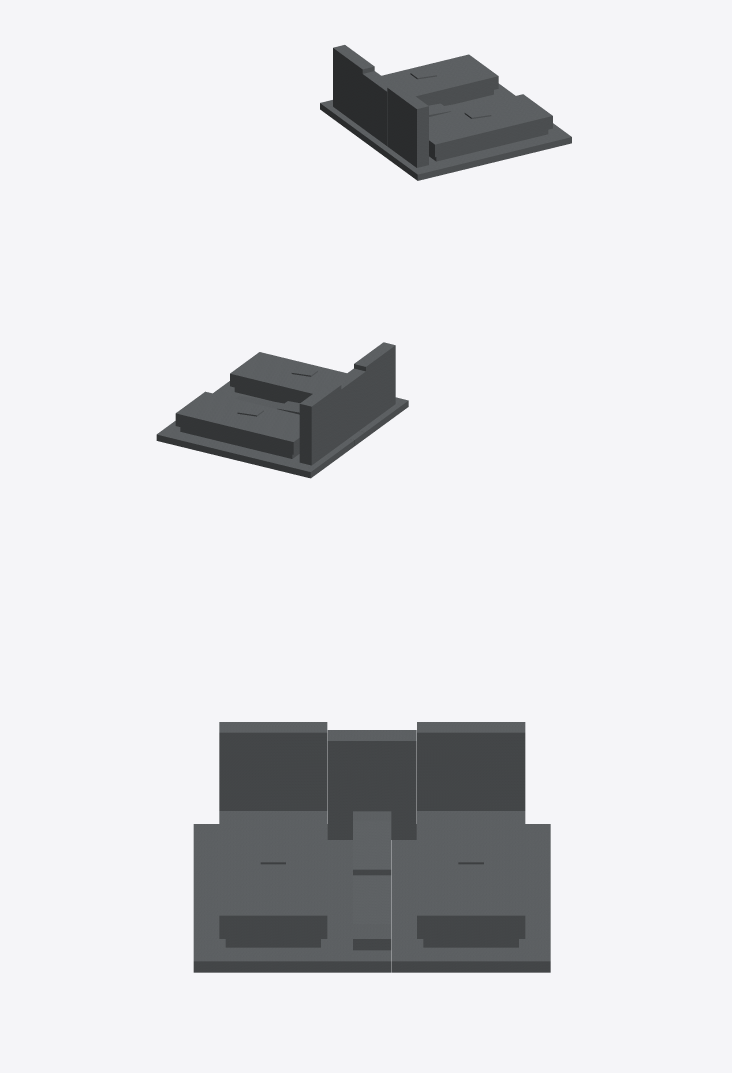
The model's file is product3.glb.
The picture shows the model from 3 angles, top to bottom: view 1: azimuth 30°, elevation 25°; view 2: azimuth 150°, elevation 25°; view 3: azimuth 270°, elevation 25°; orthographic projection. The views are drawn at different scales.
Parts seen in each view (by area): view 1: Component#2 (×2), Component#3 (×2), Component#1 (×2), object 14, object 13, Component#12; view 2: Component#2 (×2), Component#3 (×2), Component#1 (×2), object 14, object 13, Component#12; view 3: Component#2 (×2), Component#1 (×2), Component#3 (×2), object 14, object 13, Component#12 (×2), object 12.
Boxes of the visible parts, box(x1,y1,x2,y2) form: Component#2 (×2): box(381, 54, 552, 157); Component#3 (×2): box(333, 45, 428, 167); Component#1 (×2): box(320, 83, 571, 180); object 14: box(362, 71, 394, 129); object 13: box(362, 94, 509, 145); Component#12: box(429, 130, 548, 161); Component#2 (×2): box(175, 352, 346, 454); Component#3 (×2): box(299, 342, 395, 465); Component#1 (×2): box(156, 381, 408, 478); object 14: box(334, 368, 365, 427); object 13: box(218, 391, 365, 443); Component#12: box(180, 427, 299, 458); Component#2 (×2): box(219, 811, 525, 938); Component#1 (×2): box(193, 824, 550, 972); Component#3 (×2): box(219, 722, 525, 810); object 14: box(327, 730, 416, 811); object 13: box(327, 811, 416, 950); Component#12 (×2): box(225, 939, 518, 947); object 12: box(353, 950, 391, 972).
Size of the model in its own units: 8.45 by 1.03 by 5.53.
Materials: 2 (2 with a texture image).
